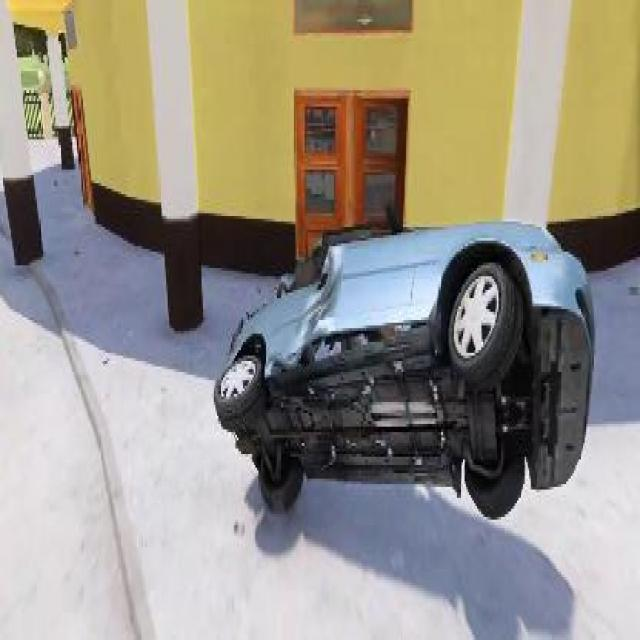accident: (206, 200, 602, 520)
